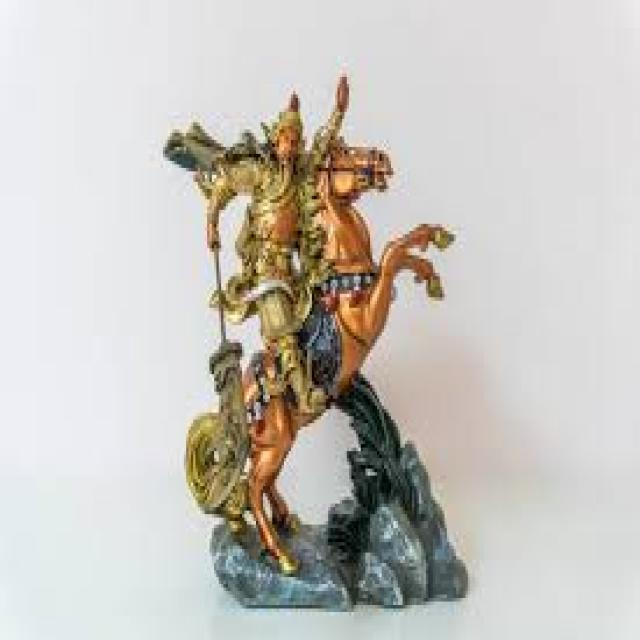Guan Yu: (237, 89, 321, 297)
